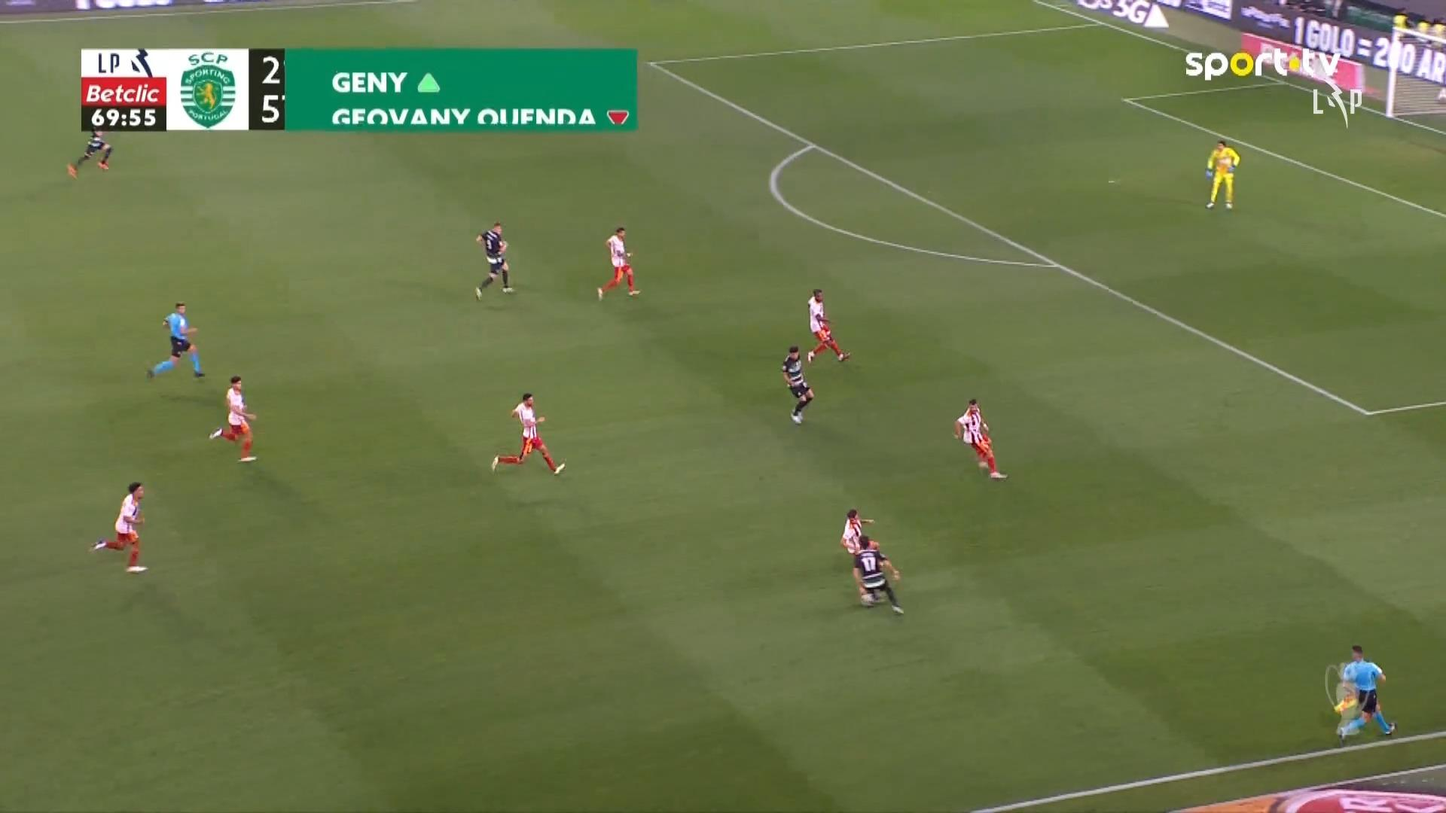goalkeeper: (1204, 139, 1240, 209)
player: (490, 392, 566, 476), (88, 480, 148, 573), (953, 397, 1008, 480), (209, 375, 258, 462), (853, 535, 905, 614), (596, 226, 641, 301), (473, 221, 515, 301), (806, 288, 850, 364), (779, 345, 814, 424), (66, 129, 112, 178), (840, 507, 875, 556)
referee: (1335, 644, 1397, 745), (145, 301, 206, 380)
